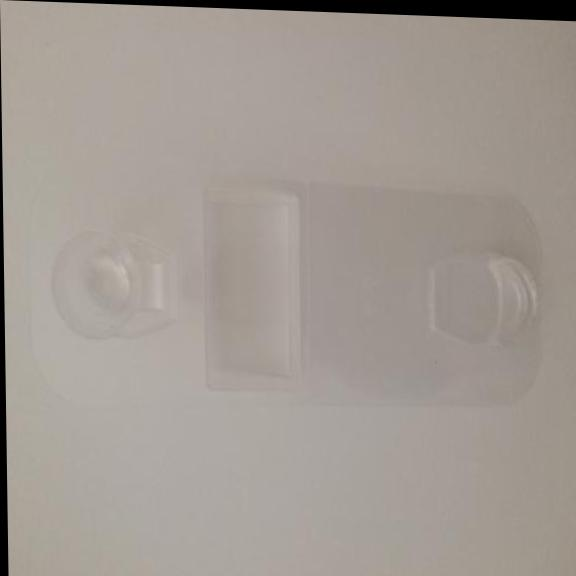Plastik: (196, 162, 556, 419), (42, 213, 186, 346)
